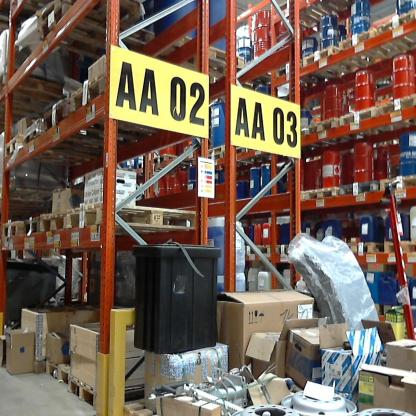pallet: (64, 69, 198, 159), (38, 9, 178, 73), (36, 97, 135, 174), (153, 26, 271, 89), (17, 111, 117, 181), (65, 196, 191, 241), (0, 133, 113, 177), (2, 70, 81, 124), (31, 4, 149, 34), (67, 375, 161, 411), (331, 21, 393, 73), (369, 6, 414, 58), (299, 44, 357, 81), (272, 0, 331, 36), (338, 171, 388, 208), (302, 114, 350, 146), (340, 101, 380, 137), (297, 181, 340, 211), (376, 90, 416, 122), (39, 199, 67, 243), (380, 171, 415, 195), (381, 237, 416, 260), (348, 237, 380, 259), (225, 140, 251, 166), (2, 213, 23, 244), (40, 361, 68, 384), (237, 244, 278, 259), (275, 238, 302, 259), (25, 213, 41, 239), (203, 152, 232, 165), (203, 141, 227, 152)
